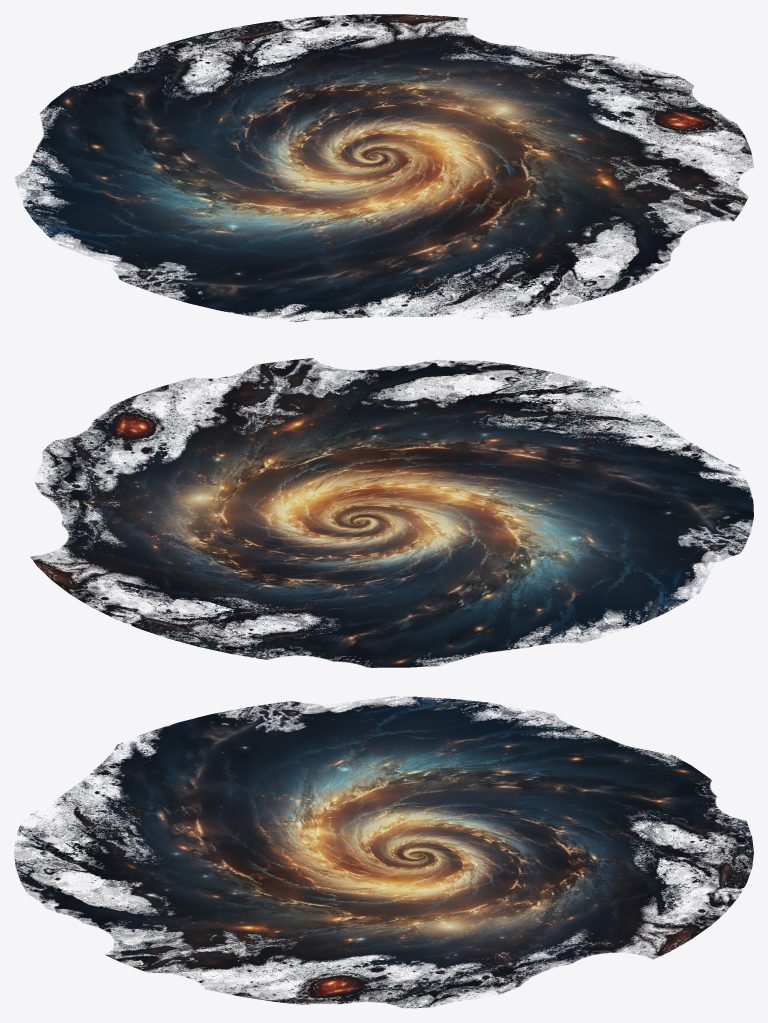
File: galaxy1.glb
The picture shows the model from 3 angles, top to bottom: view 1: azimuth 30°, elevation 25°; view 2: azimuth 150°, elevation 25°; view 3: azimuth 270°, elevation 25°; orthographic projection.
Visible parts, largest first — view 1: Circle; view 2: Circle; view 3: Circle.
Part boxes in pixels (left/top/right/bottom): Circle: left=15, top=14, right=753, bottom=321; Circle: left=30, top=358, right=753, bottom=667; Circle: left=14, top=696, right=753, bottom=1008.
Size of the model in its own units: 2 by 0 by 2.
1 material, 1 textured.
